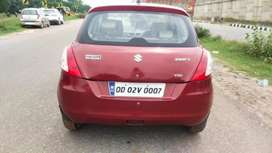OD02V0007: (107, 82, 165, 97)
